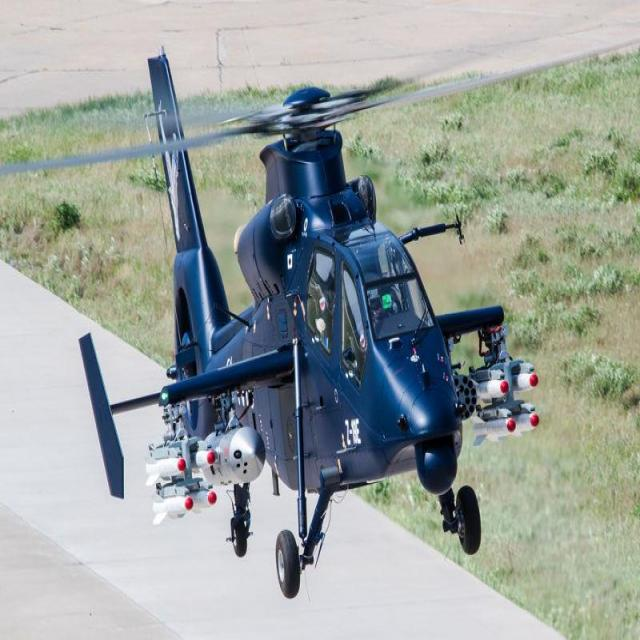MIL_HELO: (3, 14, 640, 618)
